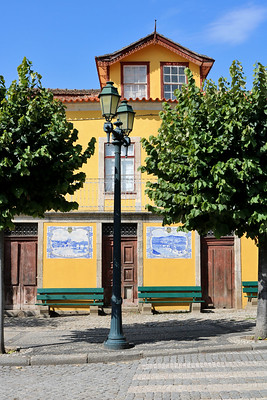medium: (5, 32, 245, 318)
